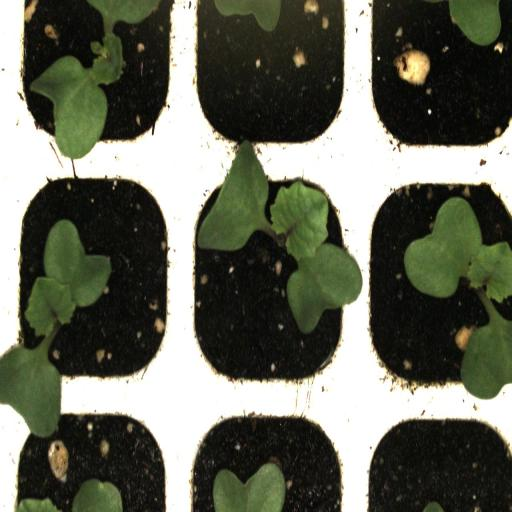Folha: (212, 0, 288, 50), (212, 463, 286, 512), (448, 0, 501, 46), (72, 478, 123, 512)
Germinacao: (179, 170, 355, 392), (8, 170, 178, 389), (356, 167, 512, 391), (8, 0, 179, 167)
